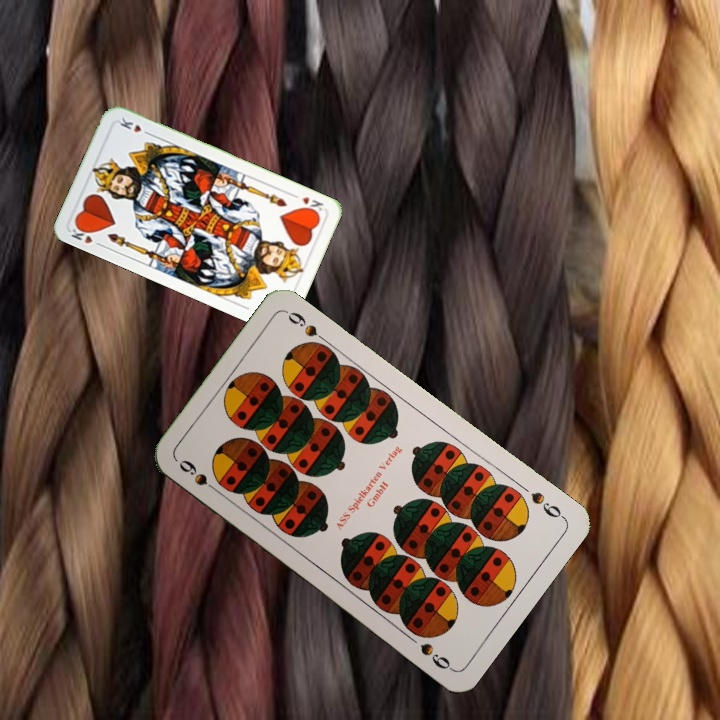HK: (66, 220, 105, 249), (288, 190, 326, 217)
S9: (175, 455, 225, 497), (526, 487, 568, 522)
